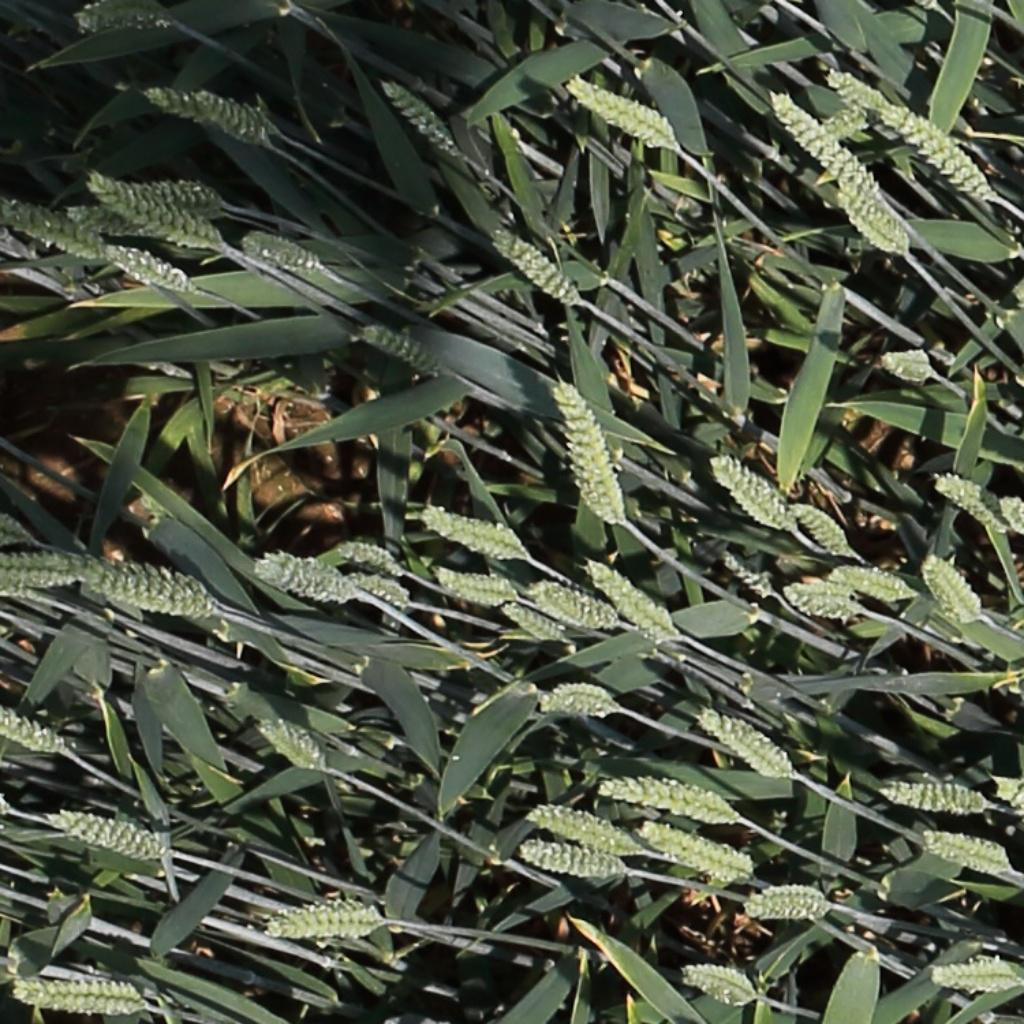0-0: (767, 90, 889, 208), (875, 97, 998, 200), (83, 171, 231, 249), (552, 376, 622, 528), (78, 548, 219, 609), (584, 558, 683, 643), (565, 74, 677, 149), (596, 775, 747, 828), (636, 819, 756, 885), (137, 81, 278, 136), (380, 74, 463, 162), (0, 196, 109, 262), (48, 808, 173, 865), (697, 708, 798, 777), (491, 226, 578, 305), (525, 804, 646, 857), (12, 971, 148, 1018), (419, 503, 531, 560), (251, 549, 362, 606), (708, 456, 793, 529), (98, 567, 216, 617), (834, 182, 909, 260), (524, 576, 624, 632), (95, 240, 194, 293), (917, 823, 1014, 876), (262, 900, 389, 940), (920, 550, 984, 628), (516, 837, 633, 879), (192, 88, 272, 148), (794, 102, 879, 155), (679, 961, 766, 1010), (356, 322, 441, 372), (880, 777, 990, 814), (134, 175, 233, 215), (61, 202, 165, 239), (825, 562, 918, 603), (738, 885, 837, 923), (432, 564, 522, 605), (932, 473, 1004, 524), (0, 550, 82, 594), (787, 499, 849, 557), (265, 715, 327, 772), (538, 681, 624, 722), (931, 956, 1024, 993), (76, 5, 178, 36), (240, 229, 318, 269), (335, 539, 410, 579), (0, 708, 62, 755), (346, 569, 413, 612), (823, 66, 887, 110), (720, 550, 776, 599), (503, 601, 566, 644), (880, 347, 936, 385), (796, 594, 865, 622), (987, 769, 1024, 821), (783, 580, 854, 606), (998, 495, 1024, 545), (0, 511, 37, 542), (1009, 277, 1024, 308)
